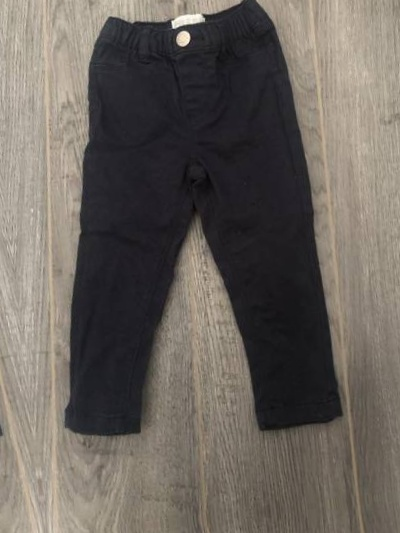Pants: (0, 0, 386, 481), (0, 6, 25, 525)
